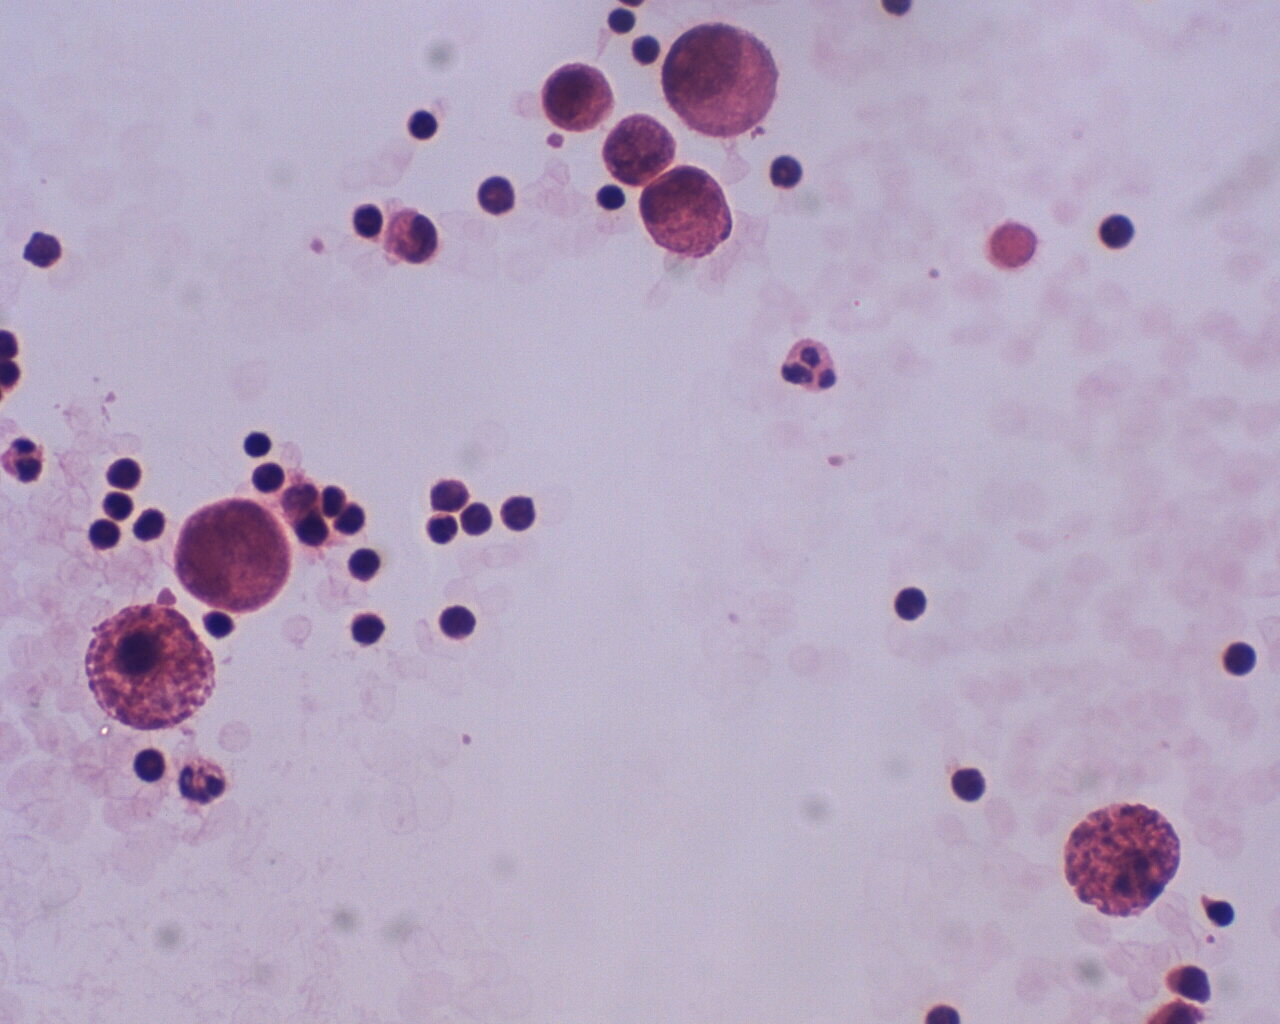ab: (173, 496, 297, 616), (661, 19, 779, 144), (636, 161, 739, 264), (602, 112, 680, 185), (537, 61, 616, 132)
histo: (83, 600, 218, 732)
lymph: (430, 597, 483, 649), (1097, 207, 1142, 261), (496, 491, 548, 537), (887, 581, 934, 628), (347, 606, 395, 652), (100, 449, 150, 493), (946, 762, 994, 807), (1213, 639, 1262, 683), (130, 741, 171, 789), (84, 515, 125, 555), (403, 106, 444, 143), (343, 545, 383, 583), (769, 152, 806, 191), (237, 426, 277, 458)
neutro: (778, 333, 842, 398)
